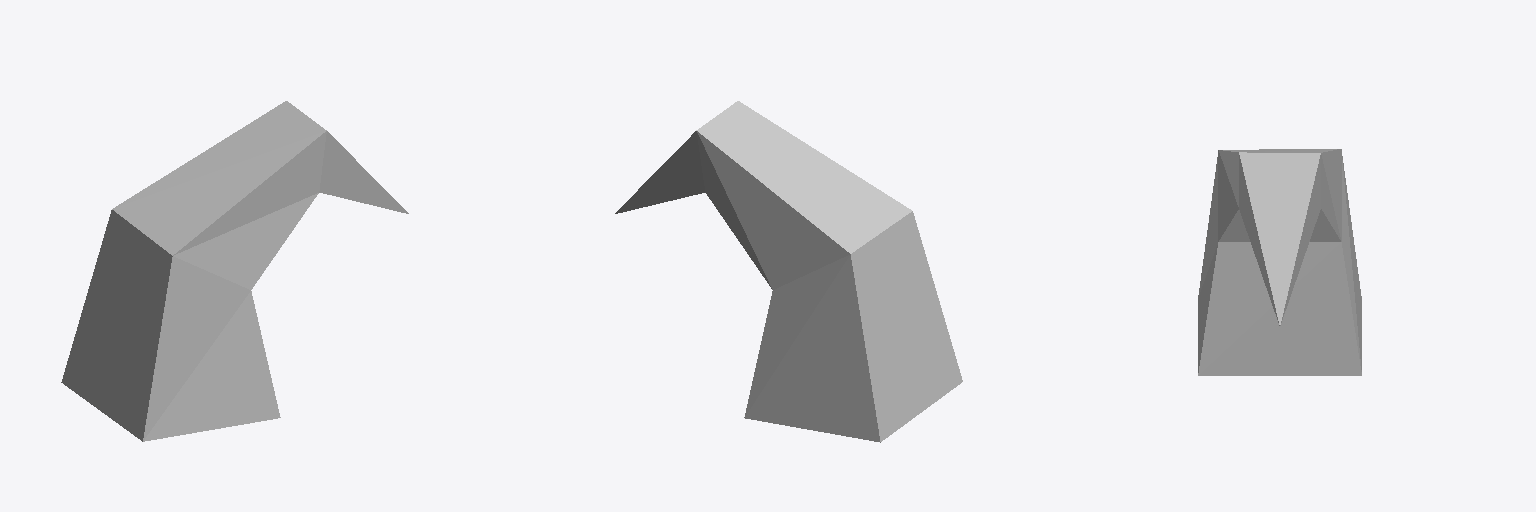
File: skeletal_000029.obj
3 renders of one model, left to right at view 1: azimuth 30°, elevation 25°; view 2: azimuth 150°, elevation 25°; view 3: azimuth 270°, elevation 25°, orthographic.
Visible parts, largest first — view 1: Cube; view 2: Cube; view 3: Cube.
Boxes of the visible parts, x1=… form: Cube: x1=61, y1=101, x2=408, y2=441; Cube: x1=615, y1=101, x2=962, y2=442; Cube: x1=1198, y1=149, x2=1361, y2=375.
Bounding box in the file's own units: 4.34 × 3.45 × 2.